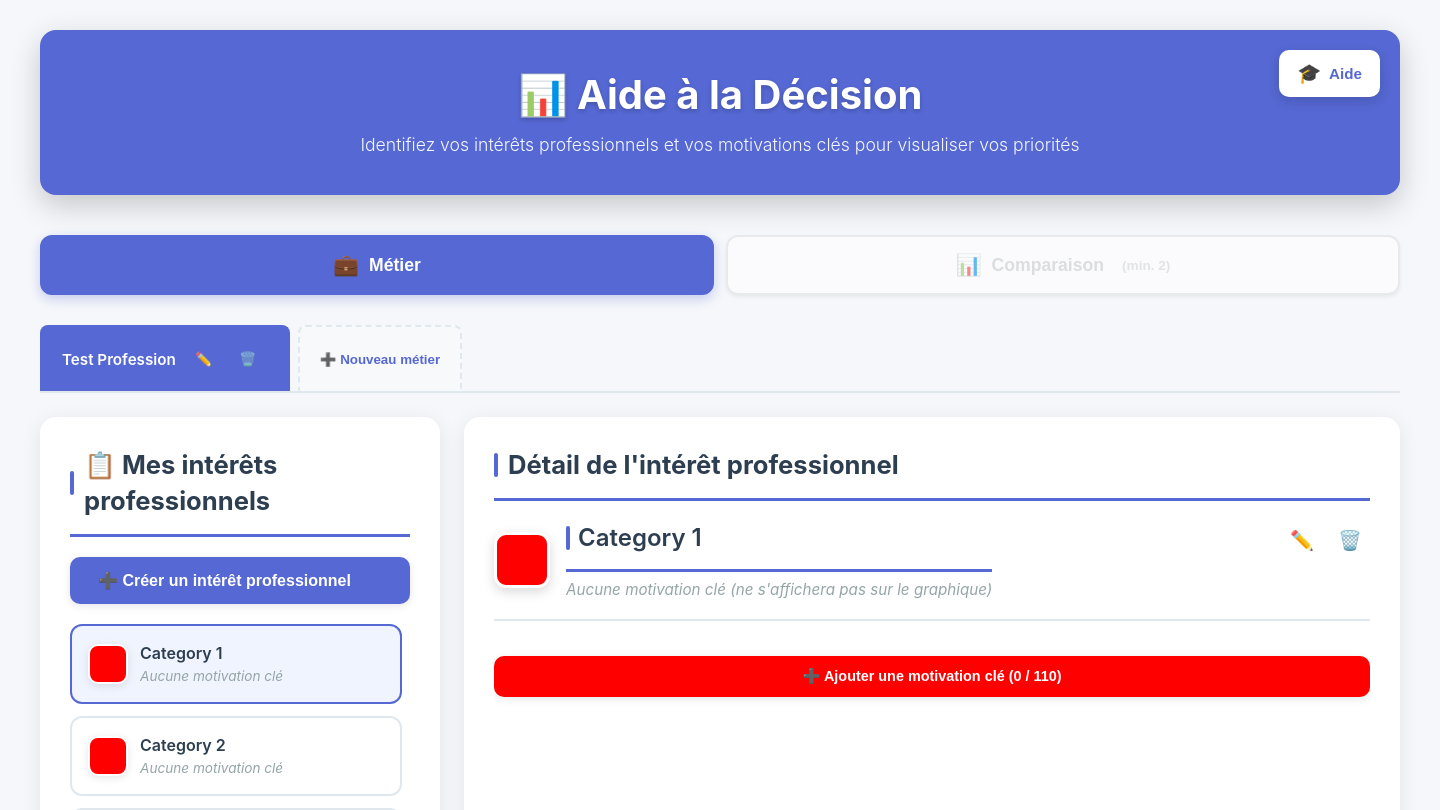
Test: App › should show error when category limit is reached
Expected: the text "Test Profession" is shown, 62,350 -> 176,368
Click the button with aria-label "créer un nouvel intérêt professionnel" at {"x": 240, "y": 580}, box 70,557 -> 410,604
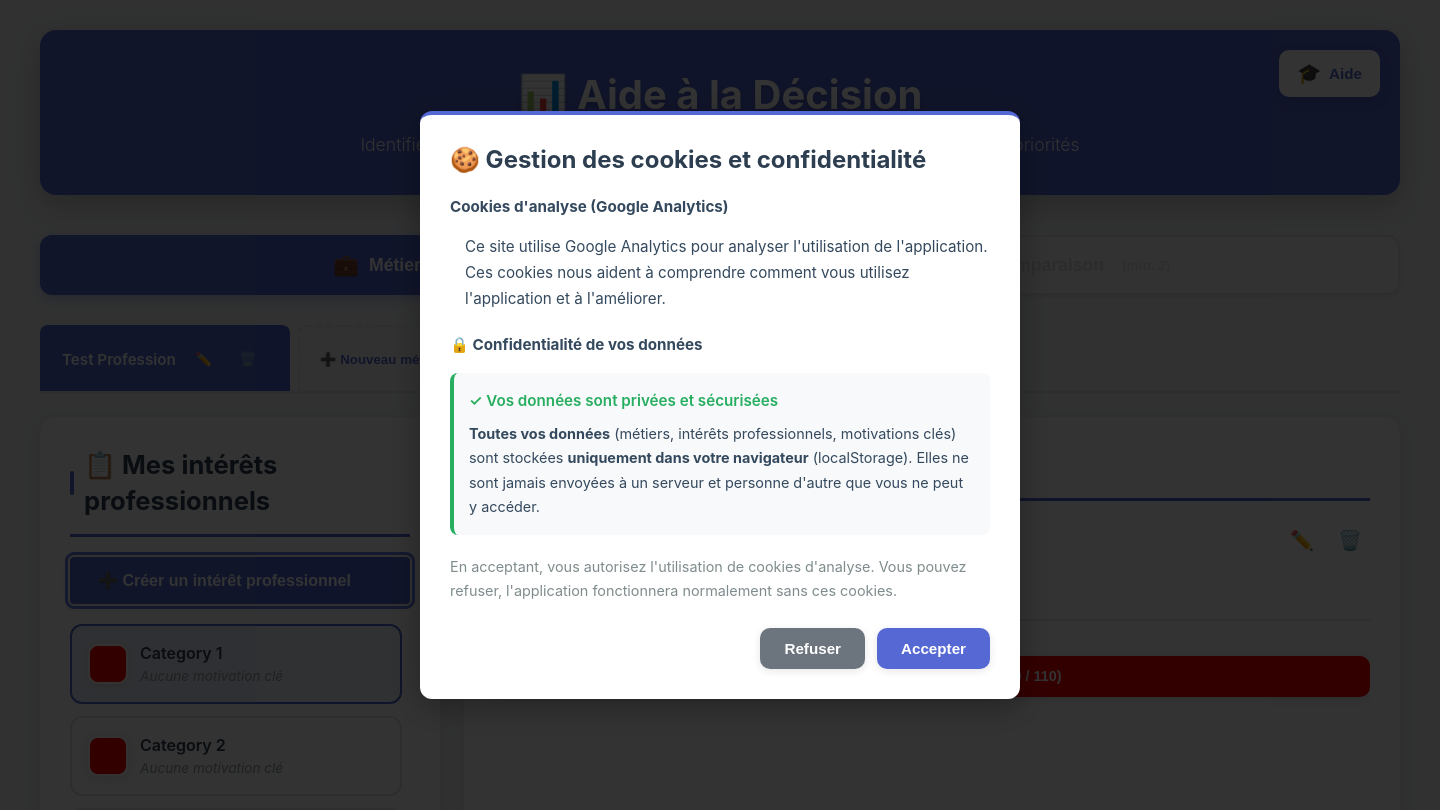
Expected: the text "Limite atteinte" is shown, 550,431 -> 917,471
